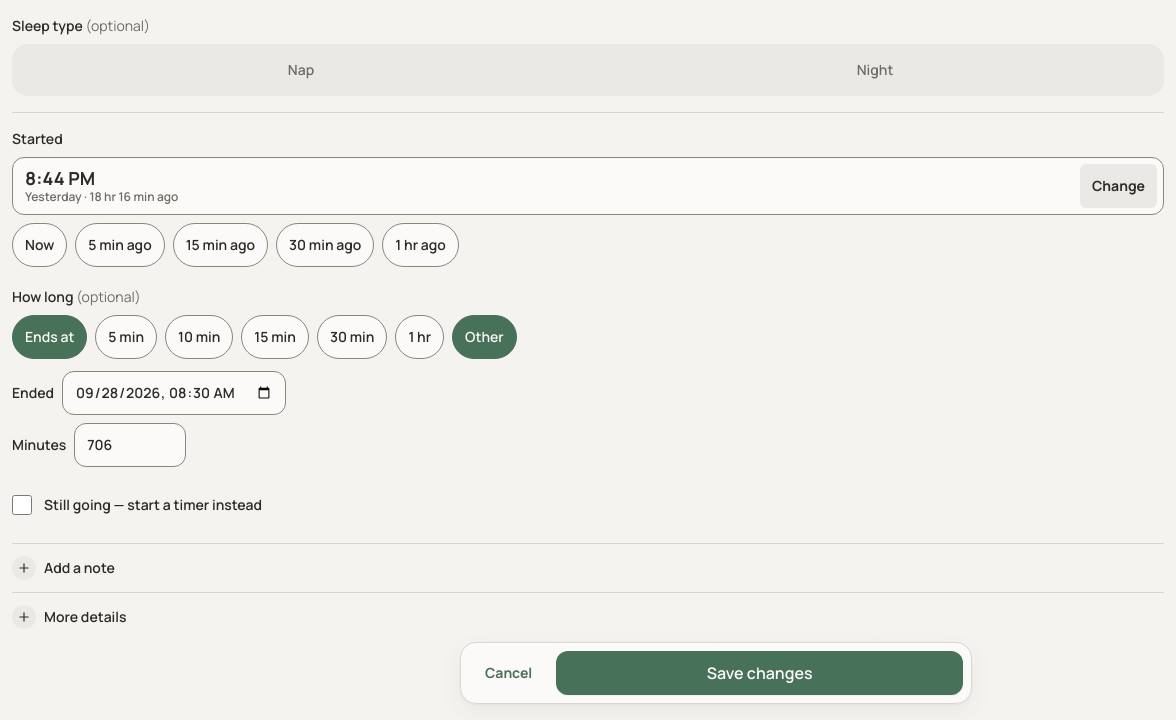
setting how long an activity lasted by its end time › does not repeat the end in words while the field is showing it
The image size is (1176, 720).
Click the button "30 min": (352, 337) [317,315,387,359]
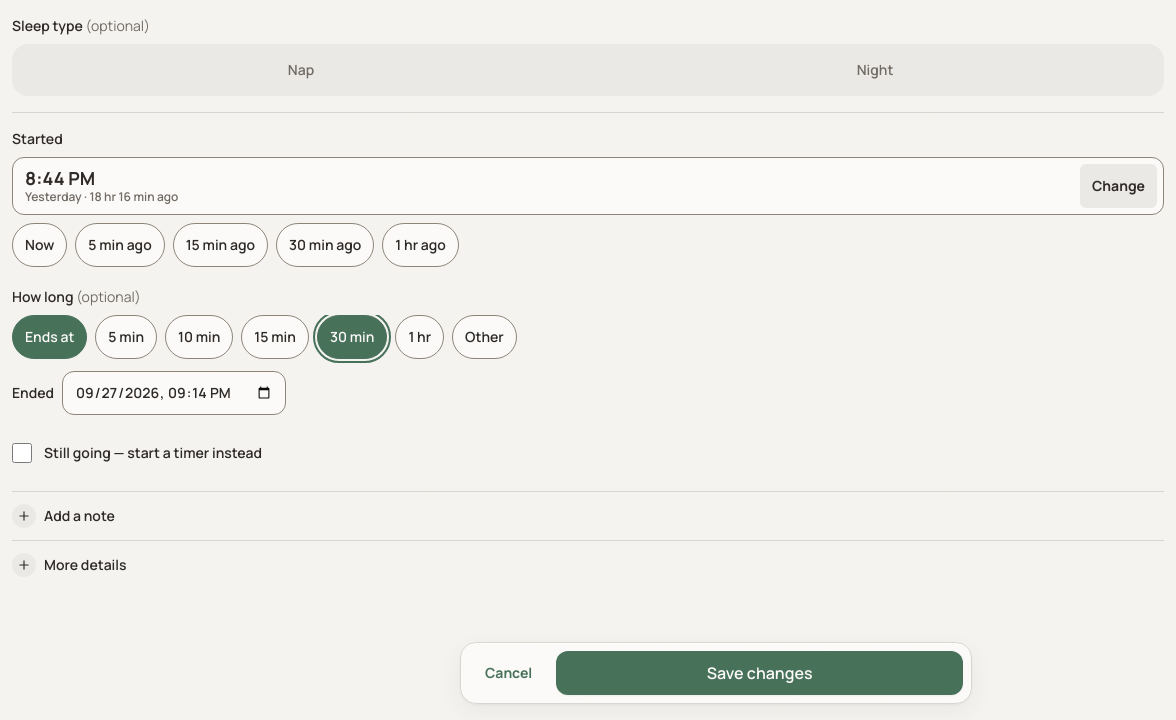
// Collapsing the field leaves the summary as the only place the end is stated.
Click the button "Ends at": (50, 337) [12,315,87,359]
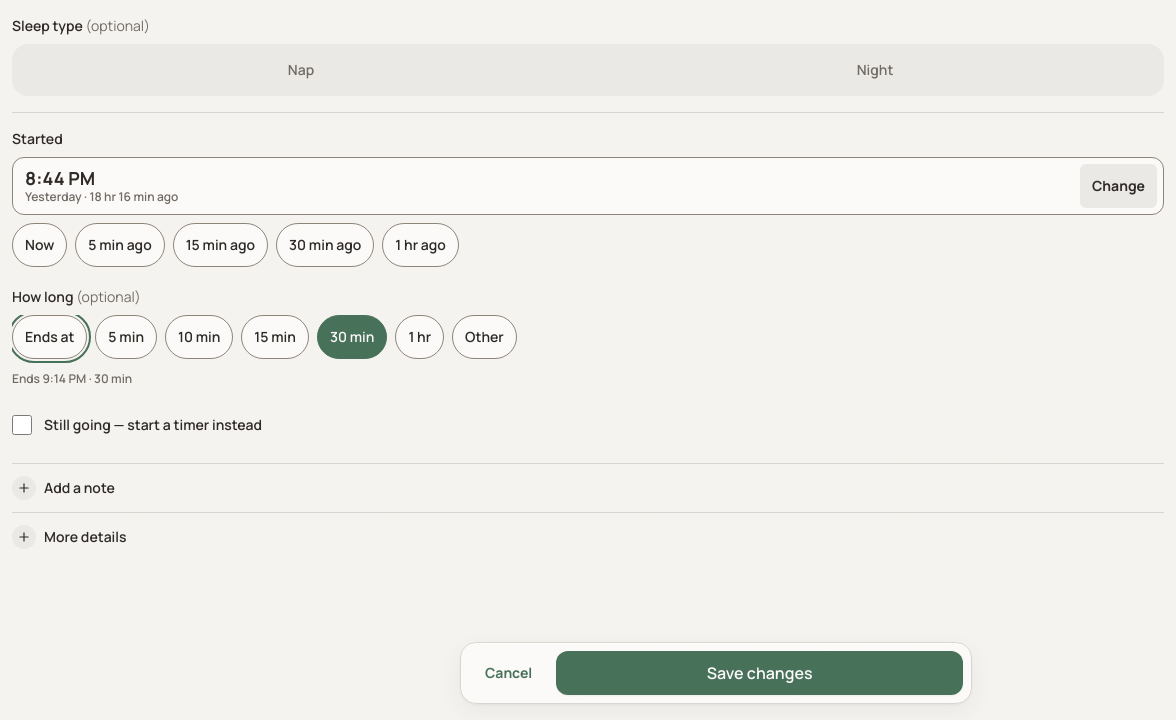
Result: the text "Ends 9:14 PM · 30 min" is shown at [12,370,132,387]
